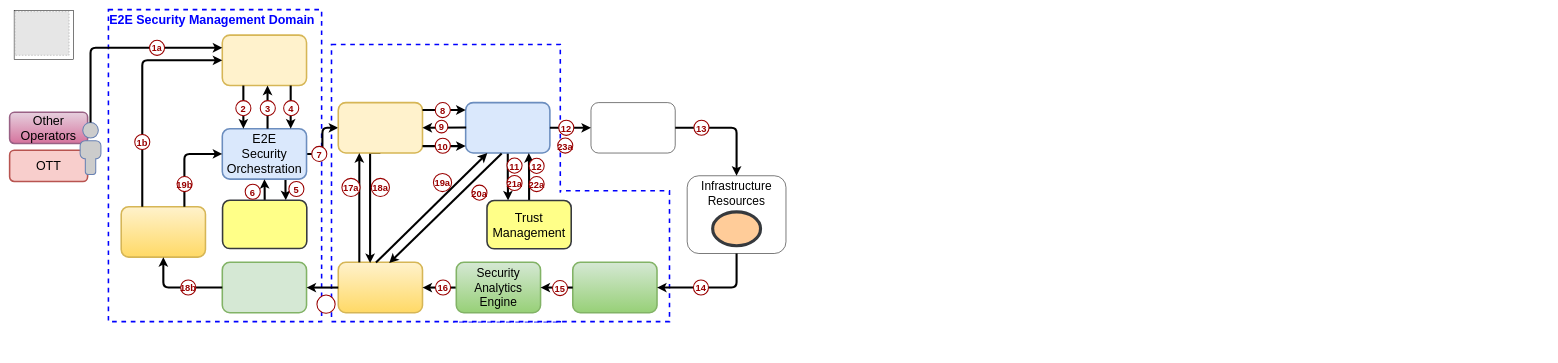
This 1558x363 diagram has some shape labels left out. Grey dashed boxes stand in for pictures. Here are the shapes that lost their labels. From the top down, the box of each, then its label:
(221, 34, 307, 86): E2E Policy & SSLA Management
(337, 102, 423, 154): Policy & SSLA Management
(465, 102, 550, 154): Security Orchestration
(590, 102, 675, 153): Service Management Functions
(330, 43, 561, 322): Security Management Domain
(120, 206, 206, 258): E2E Decision Engine
(222, 199, 307, 249): E2E Trust Management
(711, 210, 762, 247): Security AGENT
(221, 261, 307, 313): E2E Security Analytics Engine
(316, 294, 335, 314): 17b
(337, 261, 423, 313): Decision Engine
(572, 261, 658, 313): Security Data Collector
